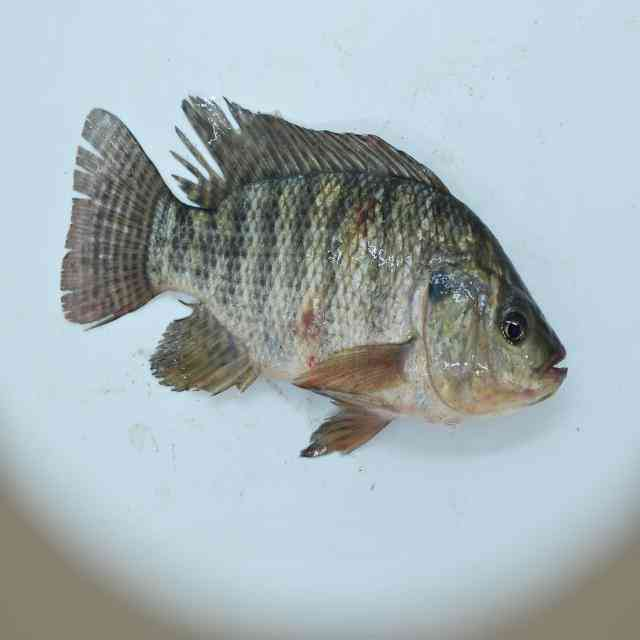Columnaris Disease: (56, 66, 577, 468)
